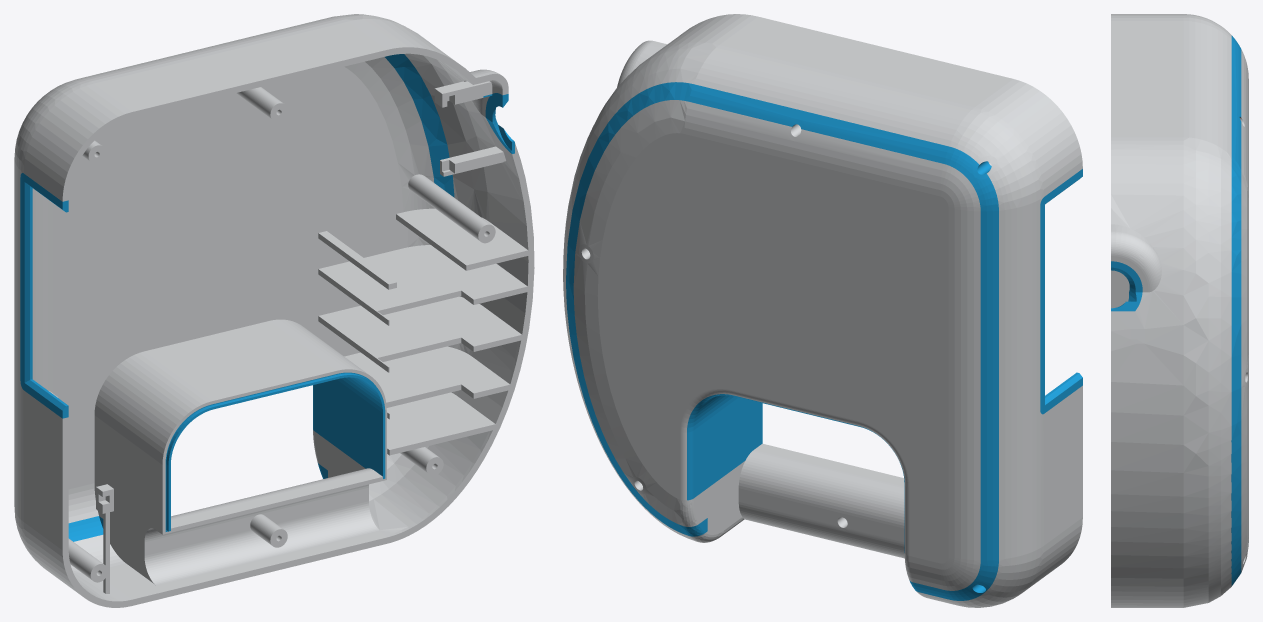
File: ARC22_RIGHT.obj
The picture shows the model from 3 angles, left to right: view 1: azimuth 30°, elevation 25°; view 2: azimuth 150°, elevation 25°; view 3: azimuth 270°, elevation 25°; orthographic projection. The views are drawn at different scales.
Visible parts, largest first — view 1: ARC22_RIGHT_WHITE, ARC22_RIGHT_BLUE; view 2: ARC22_RIGHT_WHITE, ARC22_RIGHT_BLUE; view 3: ARC22_RIGHT_WHITE, ARC22_RIGHT_BLUE.
Part boxes in pixels (bbox=[...]): ARC22_RIGHT_WHITE: bbox=[14, 14, 534, 607]; ARC22_RIGHT_BLUE: bbox=[20, 54, 514, 541]; ARC22_RIGHT_WHITE: bbox=[563, 14, 1082, 607]; ARC22_RIGHT_BLUE: bbox=[566, 82, 1082, 600]; ARC22_RIGHT_WHITE: bbox=[1111, 14, 1248, 607]; ARC22_RIGHT_BLUE: bbox=[1111, 35, 1241, 586].
Bounding box in the file's own units: 218 × 218 × 59.
